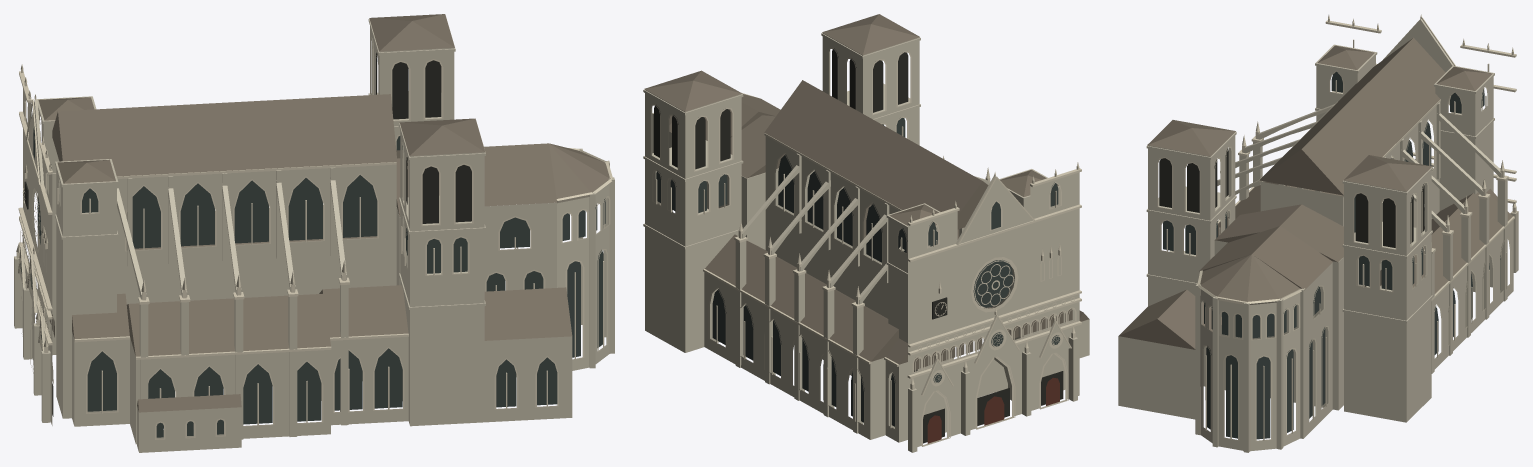
Rendered from cathedrale-saint-jean-lyon-far.glb.
3 views of the same model, side by side, from view 1: azimuth 30°, elevation 25°; view 2: azimuth 150°, elevation 25°; view 3: azimuth 270°, elevation 25° (orthographic). The views are drawn at different scales.
Visible parts, largest first — view 1: cathedrale-saint-jean-lyon-0-stone, cathedrale-saint-jean-lyon-0-roof, cathedrale-saint-jean-lyon-0-glass, cathedrale-saint-jean-lyon-0-trim, cathedrale-saint-jean-lyon-0-recess; view 2: cathedrale-saint-jean-lyon-0-stone, cathedrale-saint-jean-lyon-0-roof, cathedrale-saint-jean-lyon-0-trim, cathedrale-saint-jean-lyon-0-glass, cathedrale-saint-jean-lyon-0-recess, cathedrale-saint-jean-lyon-0-door; view 3: cathedrale-saint-jean-lyon-0-stone, cathedrale-saint-jean-lyon-0-roof, cathedrale-saint-jean-lyon-0-trim, cathedrale-saint-jean-lyon-0-glass, cathedrale-saint-jean-lyon-0-recess.
Part boxes in pixels (box(x1,y1,x2,y2)): cathedrale-saint-jean-lyon-0-stone: box(14, 18, 614, 452); cathedrale-saint-jean-lyon-0-roof: box(38, 14, 609, 412); cathedrale-saint-jean-lyon-0-glass: box(20, 95, 605, 437); cathedrale-saint-jean-lyon-0-trim: box(16, 37, 612, 439); cathedrale-saint-jean-lyon-0-recess: box(24, 52, 471, 416); cathedrale-saint-jean-lyon-0-stone: box(643, 33, 1089, 452); cathedrale-saint-jean-lyon-0-roof: box(644, 14, 1089, 370); cathedrale-saint-jean-lyon-0-trim: box(650, 47, 1081, 446); cathedrale-saint-jean-lyon-0-glass: box(656, 118, 1060, 426); cathedrale-saint-jean-lyon-0-recess: box(654, 48, 1063, 443); cathedrale-saint-jean-lyon-0-door: box(927, 377, 1059, 443); cathedrale-saint-jean-lyon-0-stone: box(1118, 19, 1518, 452); cathedrale-saint-jean-lyon-0-roof: box(1119, 37, 1512, 349); cathedrale-saint-jean-lyon-0-trim: box(1157, 14, 1516, 441); cathedrale-saint-jean-lyon-0-glass: box(1163, 71, 1500, 439); cathedrale-saint-jean-lyon-0-recess: box(1159, 148, 1424, 247).
Bounding box in the file's own units: 84.2 × 44 × 66.11.
